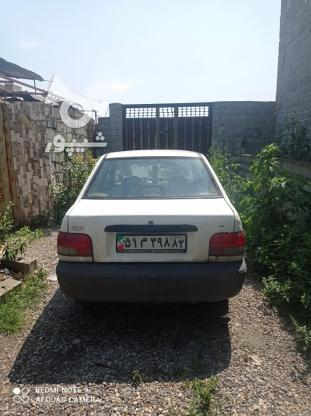car: (116, 234, 187, 253)
